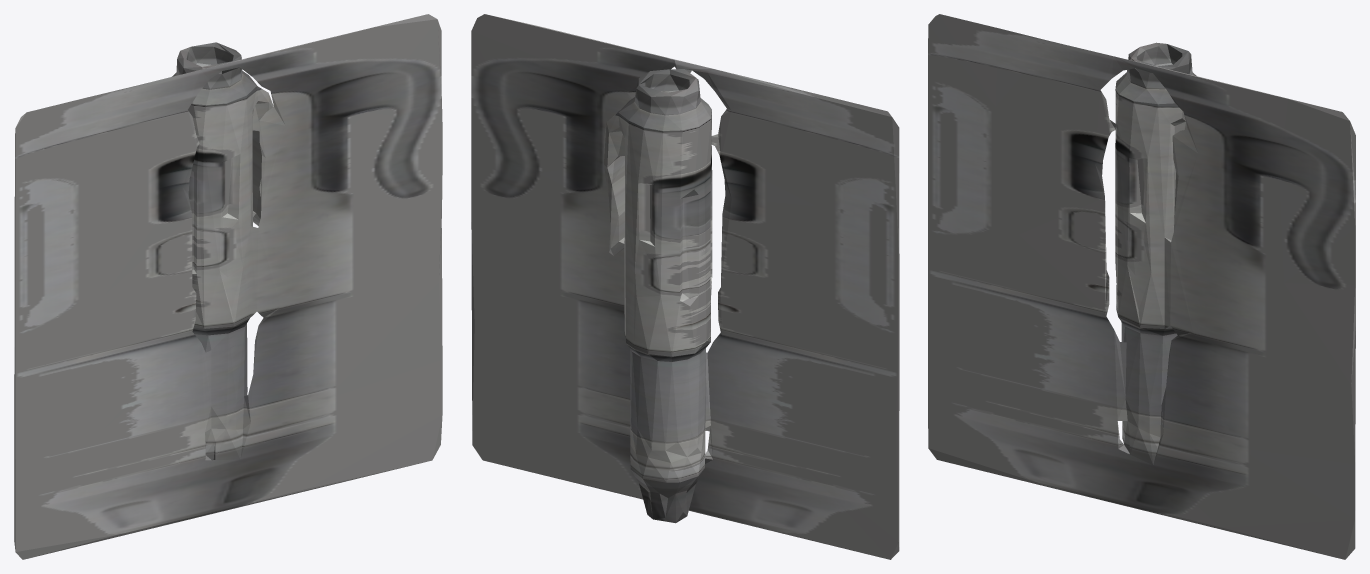
File: stim.glb
The picture shows the model from 3 angles, left to right: view 1: azimuth 30°, elevation 25°; view 2: azimuth 150°, elevation 25°; view 3: azimuth 330°, elevation 25°; orthographic projection.
Parts seen in each view (by area): view 1: Mesh_0; view 2: Mesh_0; view 3: Mesh_0.
Part boxes in pixels (x1,y1,x2,y2): Mesh_0: (14, 14, 442, 559); Mesh_0: (471, 14, 899, 559); Mesh_0: (928, 14, 1355, 559).
Size of the model in its own units: 0.14 by 0.14 by 0.0247.
Materials: 1 (1 with a texture image).
